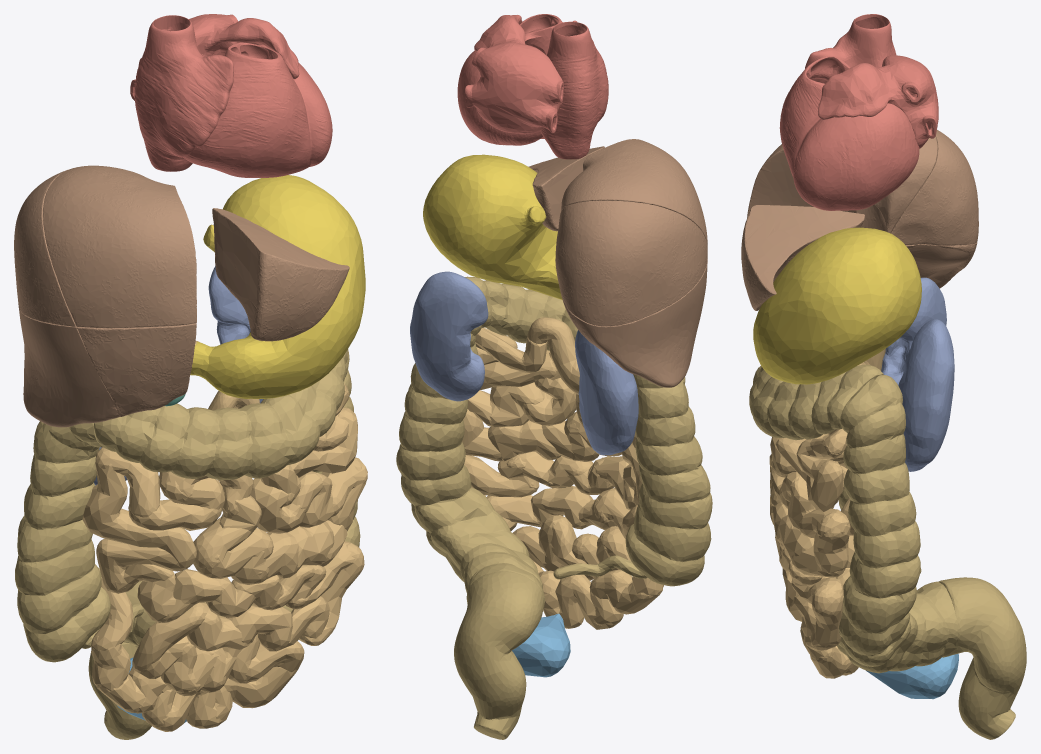
File: zangfu.glb
3 renders of one model, left to right at view 1: azimuth 30°, elevation 25°; view 2: azimuth 150°, elevation 25°; view 3: azimuth 270°, elevation 25°, orthographic. The views are drawn at different scales.
Visible parts, largest first — view 1: 小肠, 肝, 大肠, 心, 胃, 肾; view 2: 大肠, 小肠, 肝, 心, 胃, 肾, 膀胱; view 3: 大肠, 心, 胃, 肝, 小肠, 肾, 膀胱.
Part boxes in pixels (x1,y1,x2,y2): 小肠: (82, 341, 367, 731); 肝: (14, 165, 349, 427); 大肠: (15, 349, 360, 739); 心: (130, 14, 332, 177); 胃: (190, 175, 365, 398); 肾: (94, 266, 263, 485); 大肠: (396, 276, 712, 739); 小肠: (462, 317, 663, 629); 肝: (528, 139, 707, 387); 心: (457, 14, 608, 159); 胃: (423, 154, 562, 299); 肾: (410, 271, 638, 455); 膀胱: (512, 613, 570, 677); 大肠: (749, 364, 1026, 739); 心: (779, 14, 938, 210); 胃: (753, 227, 921, 384); 肝: (741, 130, 978, 310); 小肠: (769, 348, 885, 678); 肾: (881, 277, 954, 471); 膀胱: (866, 653, 958, 699).
Size of the model in its own units: 0.2443 by 0.5222 by 0.1911.
